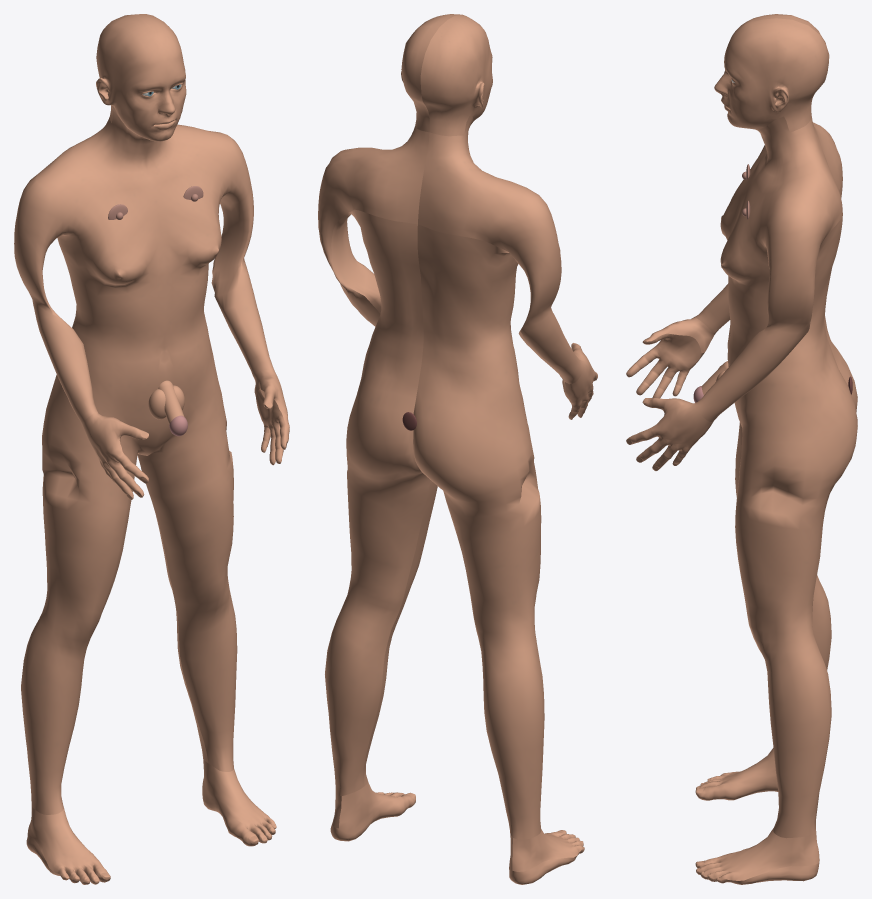
Rendered from body-erwachsener-divers-penis-brueste-real-v3.glb.
3 views of the same model, side by side, from view 1: azimuth 30°, elevation 25°; view 2: azimuth 150°, elevation 25°; view 3: azimuth 270°, elevation 25° (orthographic).
Visible parts, largest first — view 1: real-human-body, real-human-penis; view 2: real-human-body; view 3: real-human-body.
Part boxes in pixels (x1,y1,x2,y2): real-human-body: (14, 14, 289, 884); real-human-penis: (158, 380, 184, 424); real-human-body: (318, 14, 597, 884); real-human-body: (626, 14, 857, 884).
Size of the model in its own units: 0.5061 by 1.72 by 0.442.
8 materials, 1 textured.
